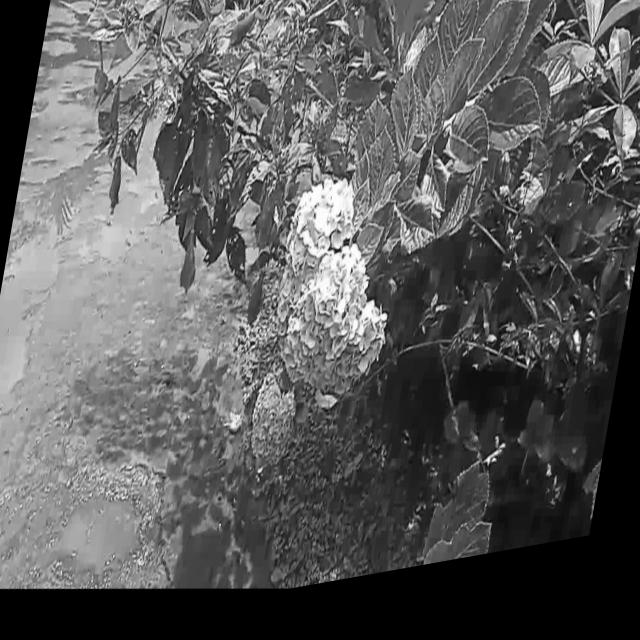Flower: (260, 170, 415, 426), (243, 370, 306, 479), (173, 229, 209, 313), (225, 5, 265, 68), (248, 202, 281, 271), (102, 154, 131, 227), (244, 276, 270, 341)
